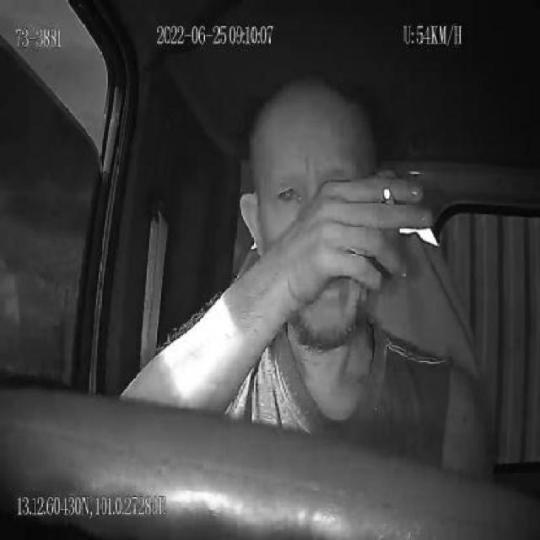smoking: (383, 184, 397, 204)
